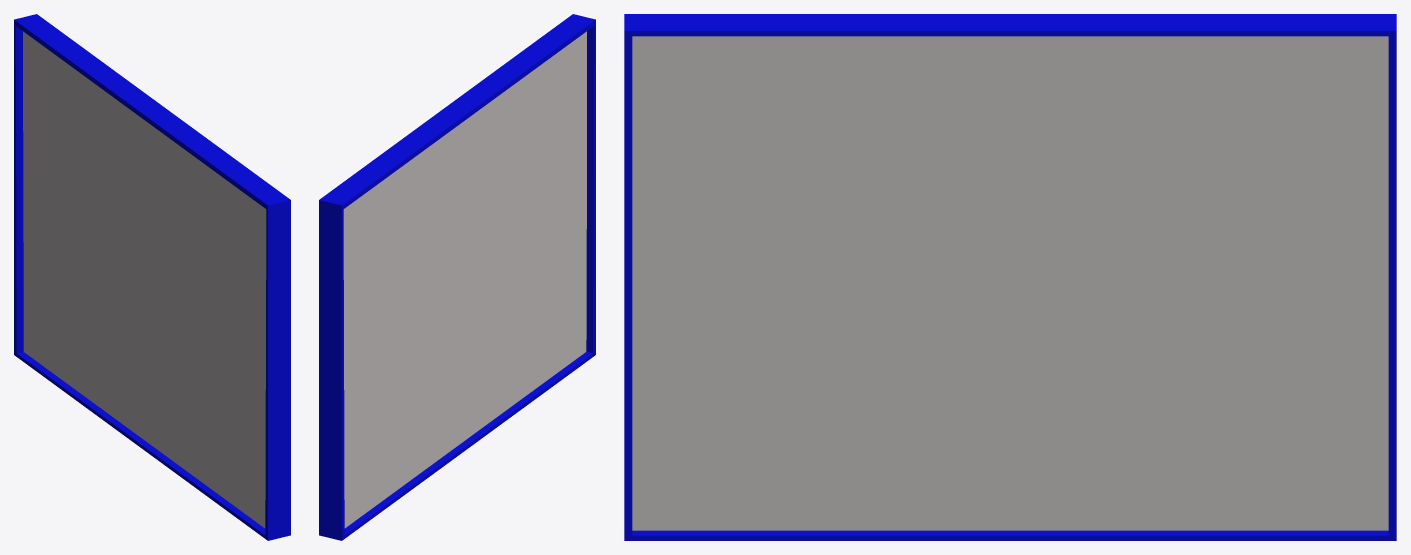
File: WhiteBoard.fbx
3 views of the same model, side by side, from view 1: azimuth 30°, elevation 25°; view 2: azimuth 150°, elevation 25°; view 3: azimuth 270°, elevation 25° (orthographic). The views are drawn at different scales.
Parts seen in each view (by area): view 1: Cube.001, Cube; view 2: Cube.001, Cube; view 3: Cube.001, Cube.
Part boxes in pixels (left/top/right/bottom): Cube.001: left=23, top=31, right=266, bottom=528; Cube: left=14, top=14, right=290, bottom=540; Cube.001: left=343, top=31, right=586, bottom=528; Cube: left=319, top=14, right=595, bottom=540; Cube.001: left=632, top=36, right=1388, bottom=530; Cube: left=624, top=14, right=1396, bottom=540.
Size of the model in its own units: 29.22 by 409 by 561.
